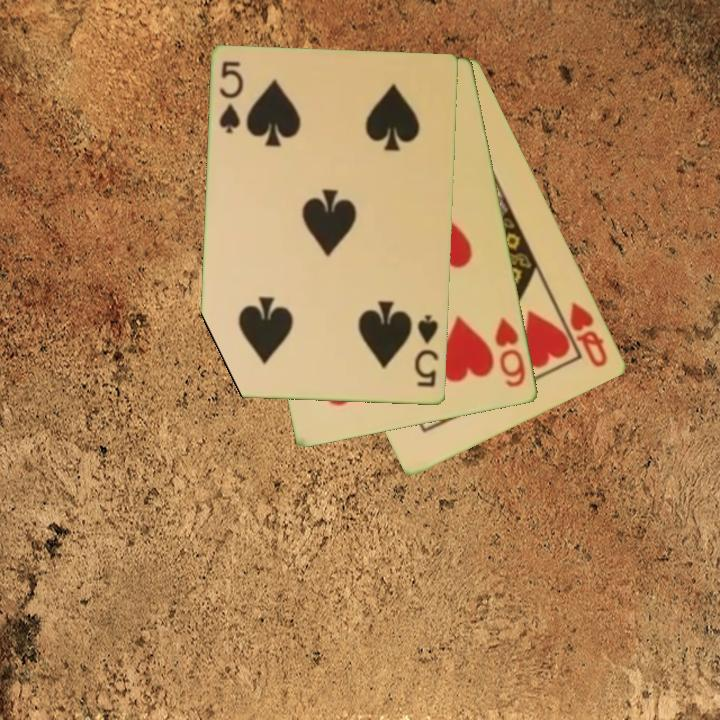5s: (411, 311, 442, 391), (216, 58, 246, 137)
6h: (492, 314, 529, 391)
Qh: (566, 299, 612, 371)
